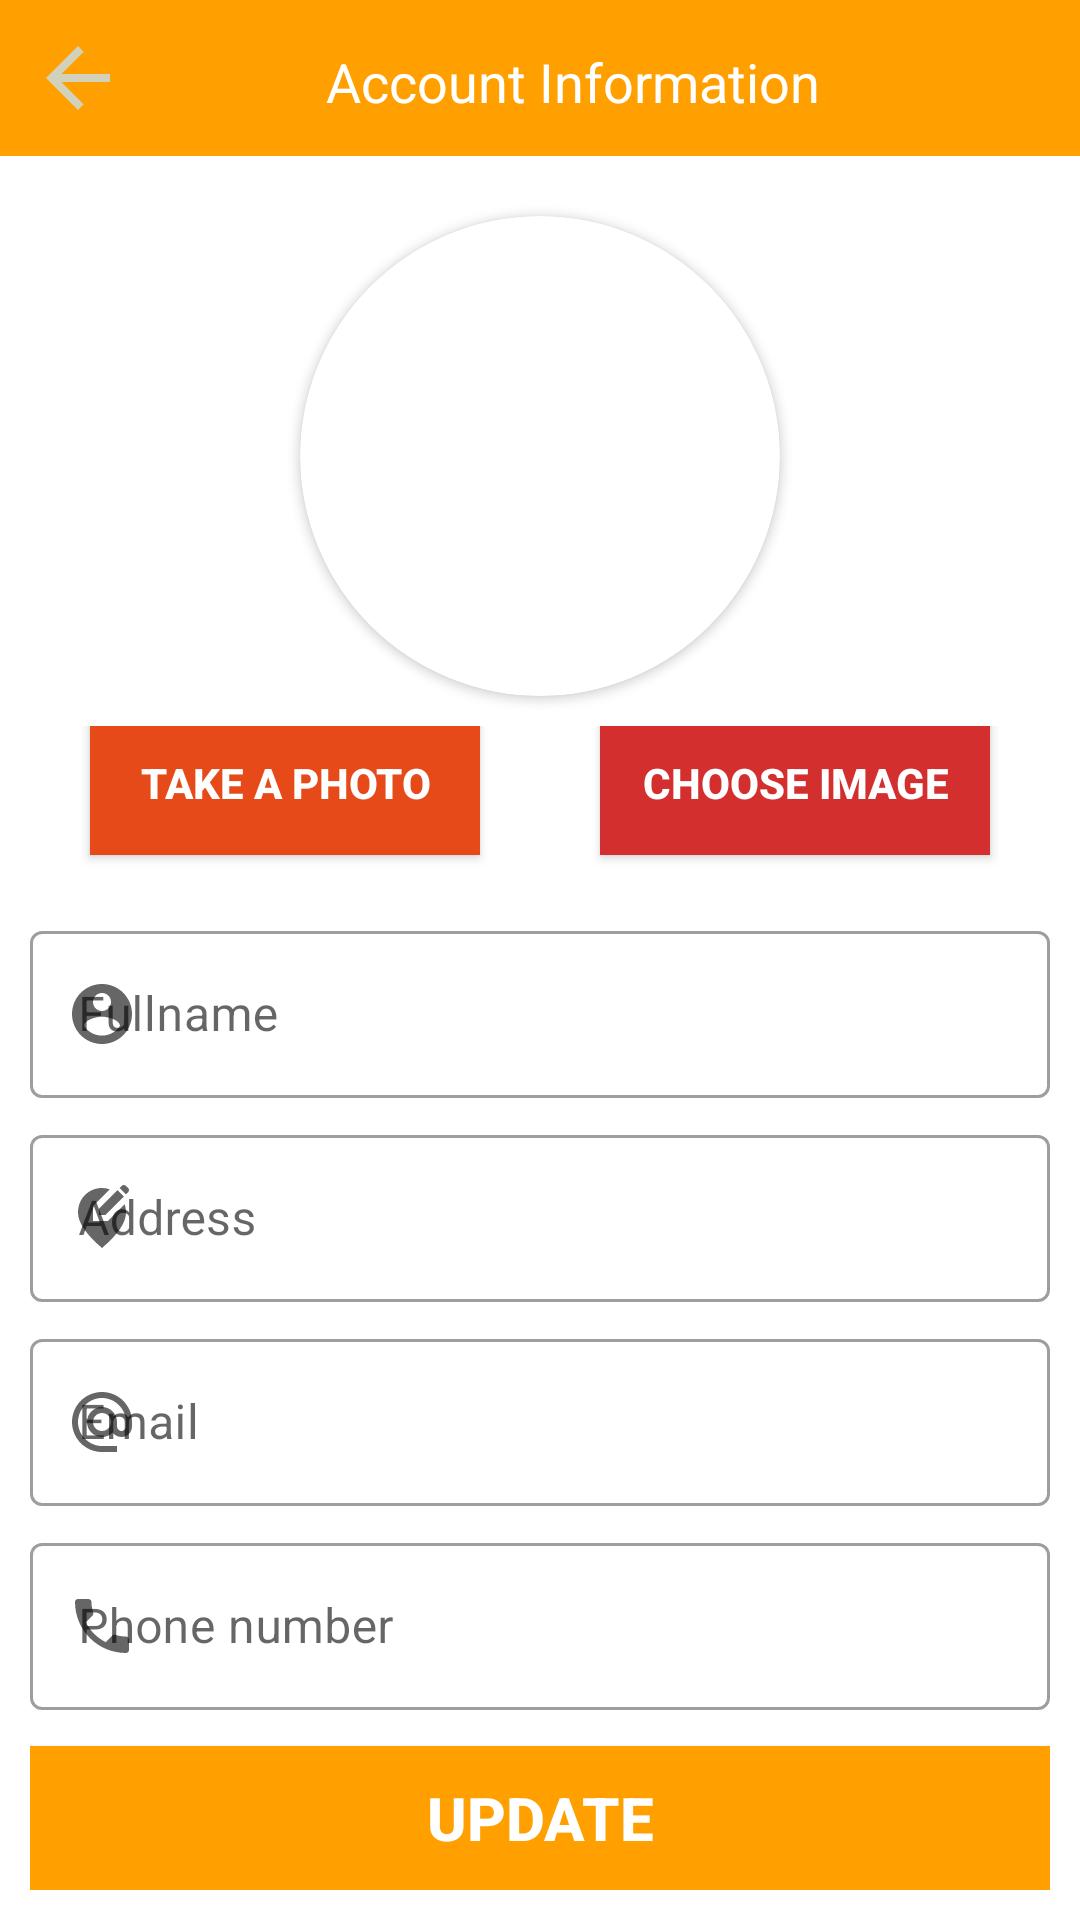

Point at icon controls on the screen. Image size 1080w x 1920h, points as [x,y].
arrow back: [78,78]
